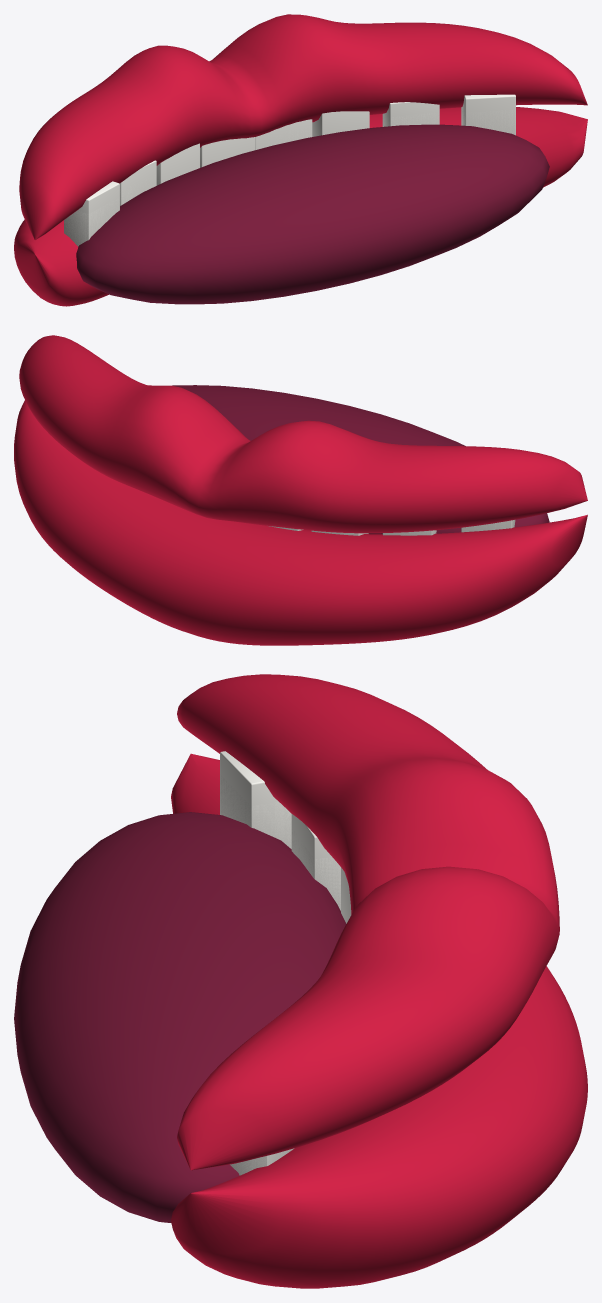
Rendered from big_mouth.glb.
3 renders of one model, top to bottom at view 1: azimuth 30°, elevation 25°; view 2: azimuth 150°, elevation 25°; view 3: azimuth 270°, elevation 25°, orthographic. The views are drawn at different scales.
Parts seen in each view (by area): view 1: Cavity, UpperLip, LowerLip, LowerTooth_0, LowerTooth_7, LowerTooth_6, LowerTooth_5, UpperTooth_0, LowerTooth_2, LowerTooth_3, LowerTooth_4, LowerTooth_1 (+2 smaller); view 2: LowerLip, UpperLip, Cavity; view 3: UpperLip, Cavity, LowerLip, LowerTooth_0, LowerTooth_1, UpperTooth_0, UpperTooth_1.
Part boxes in pixels (x1,y1,x2,y2): Cavity: (76, 124, 549, 304); UpperLip: (19, 14, 587, 239); LowerLip: (14, 107, 587, 306); LowerTooth_0: (64, 181, 119, 246); LowerTooth_7: (461, 94, 515, 135); LowerTooth_6: (382, 102, 439, 126); LowerTooth_5: (312, 111, 369, 136); UpperTooth_0: (64, 197, 119, 245); LowerTooth_2: (156, 143, 199, 185); LowerTooth_3: (200, 137, 255, 167); LowerTooth_4: (255, 119, 312, 149); LowerTooth_1: (120, 160, 156, 205); LowerLip: (14, 400, 587, 645); UpperLip: (19, 335, 587, 533); Cavity: (172, 385, 549, 534); UpperLip: (177, 674, 559, 1170); Cavity: (14, 812, 346, 1222); LowerLip: (171, 753, 587, 1288); LowerTooth_0: (220, 751, 291, 848); LowerTooth_1: (291, 814, 340, 910); UpperTooth_0: (220, 774, 291, 848); UpperTooth_1: (291, 829, 340, 910).
Size of the model in its own units: 1 by 0.3761 by 0.552.
